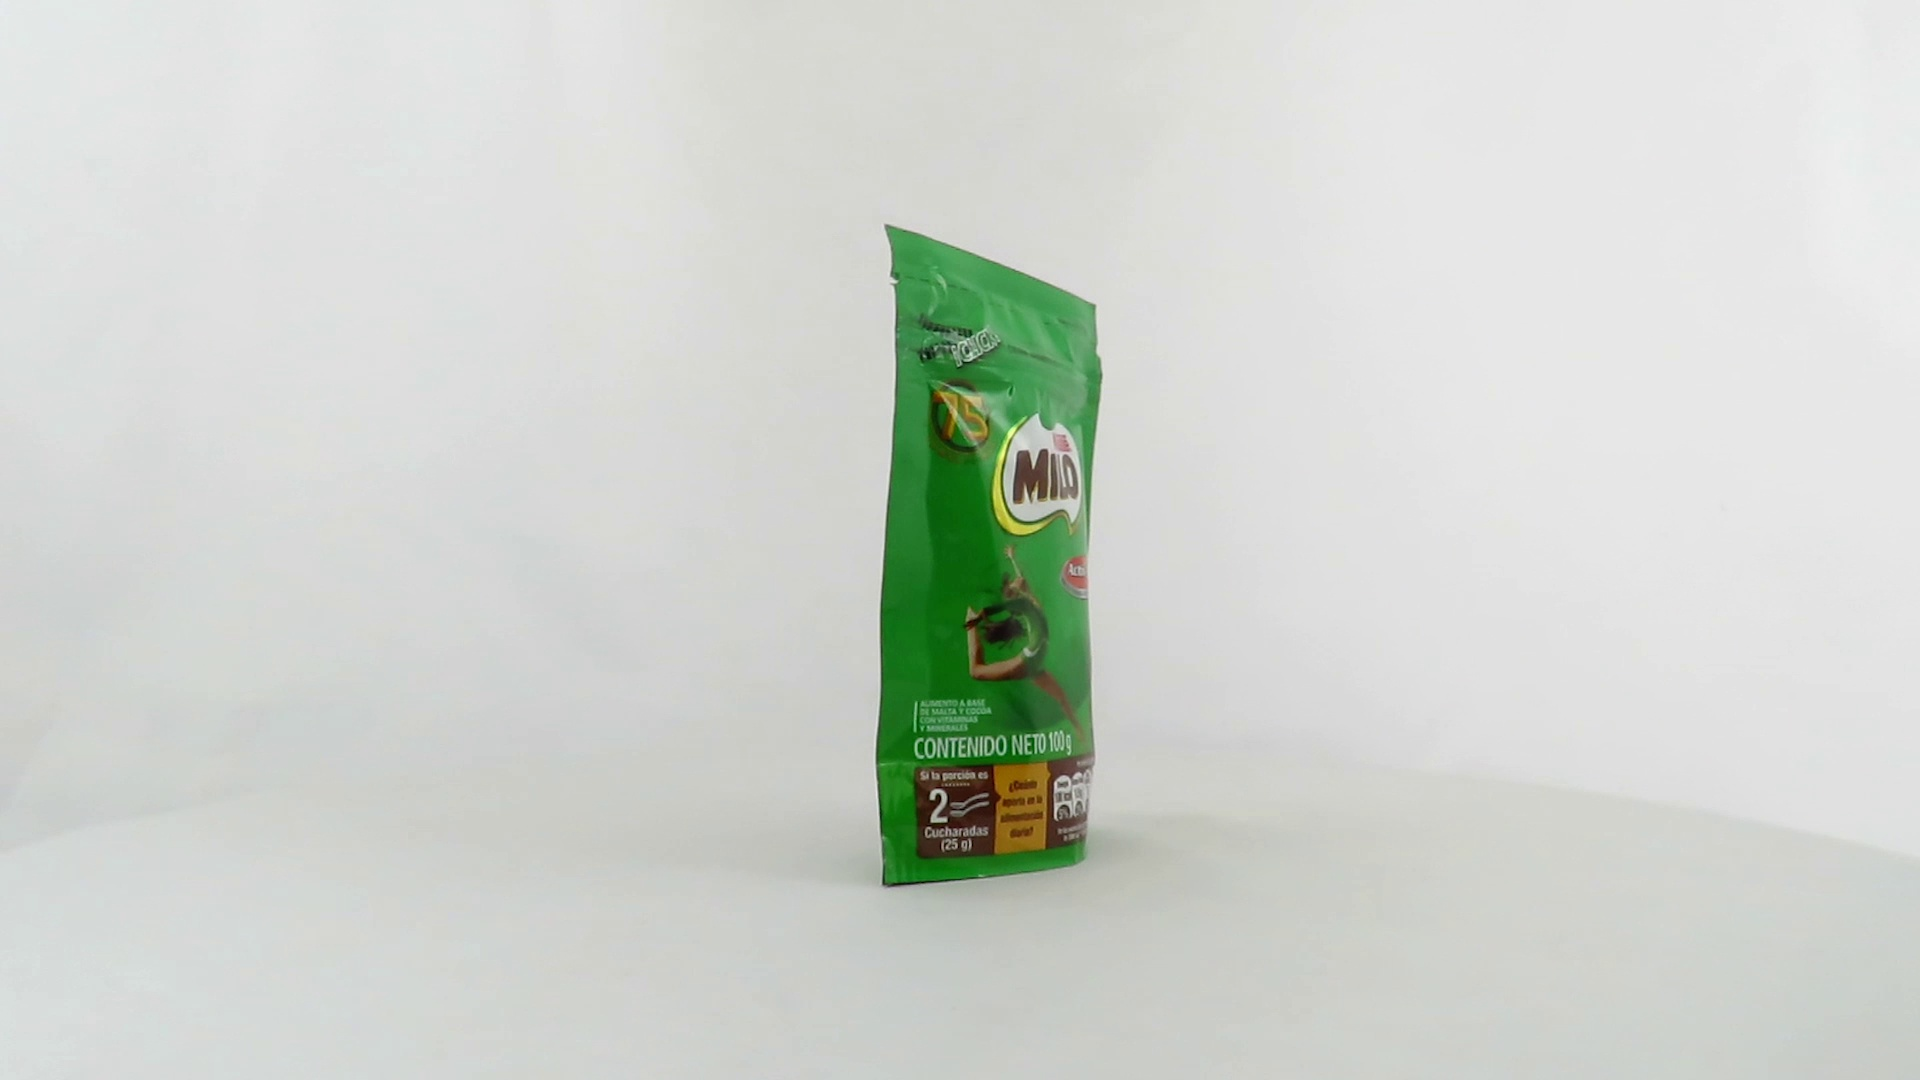COL0170203DYP10000: (870, 219, 1109, 894)
